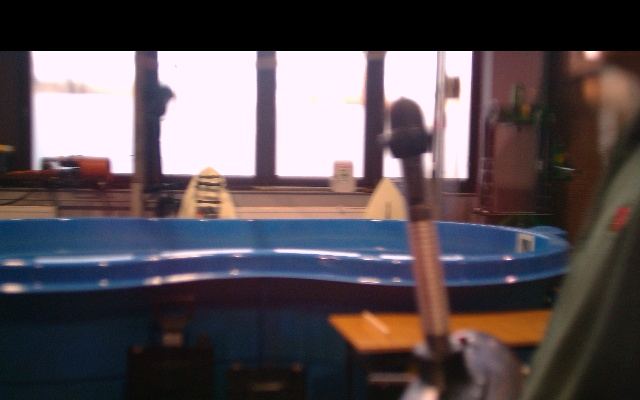black: (406, 205, 450, 346)
